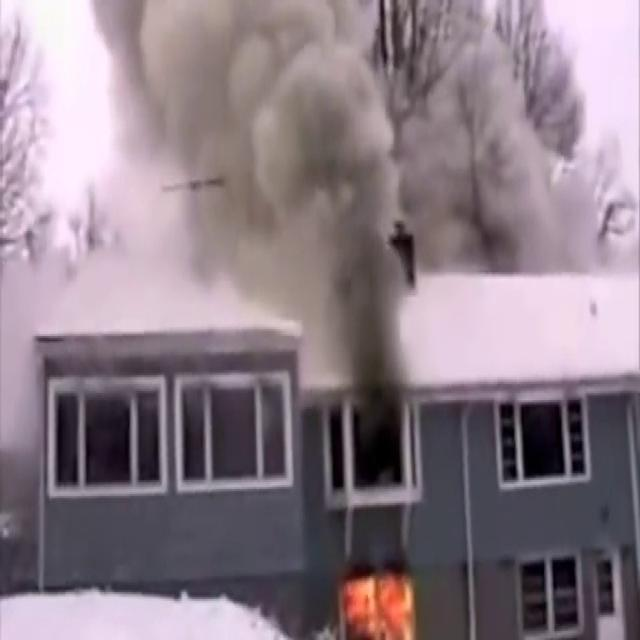Fire: (337, 553, 428, 640)
Smoke: (26, 1, 630, 342)
